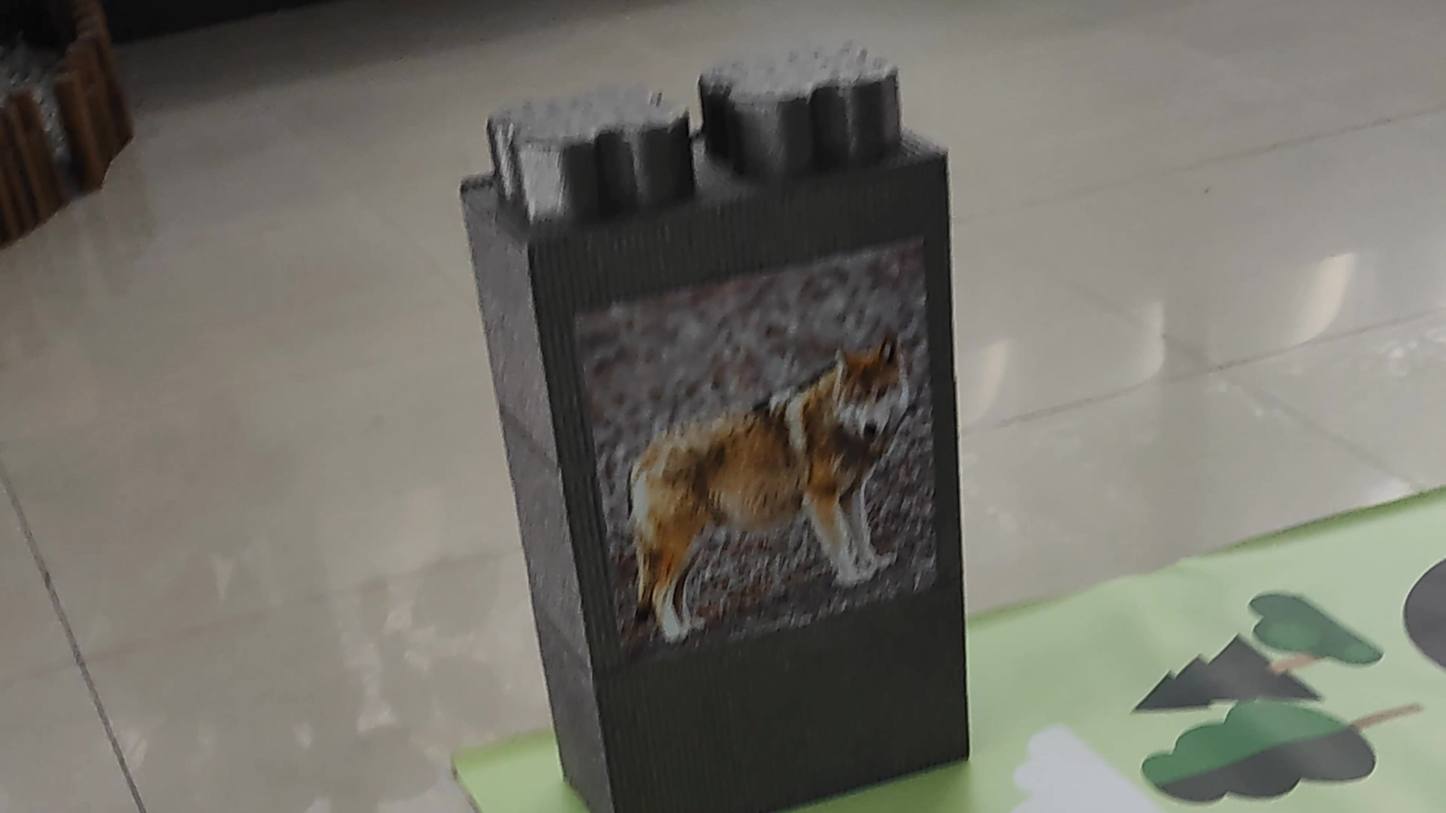wolf: (583, 322, 941, 633)
